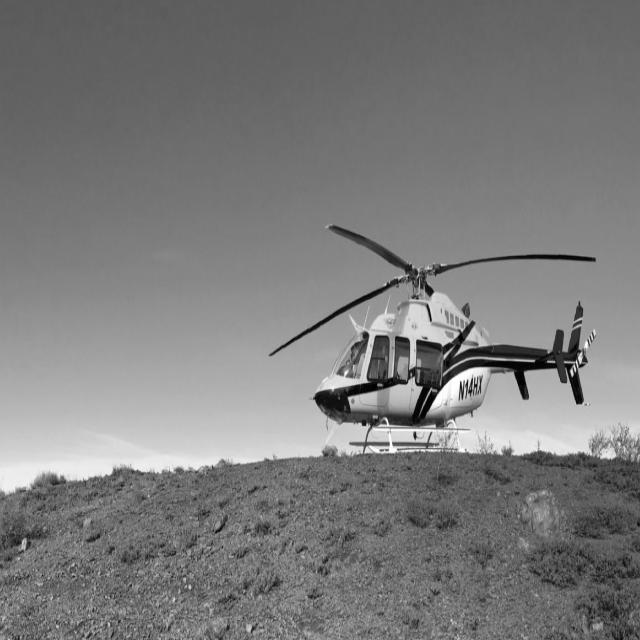helicopter: (269, 219, 601, 462)
